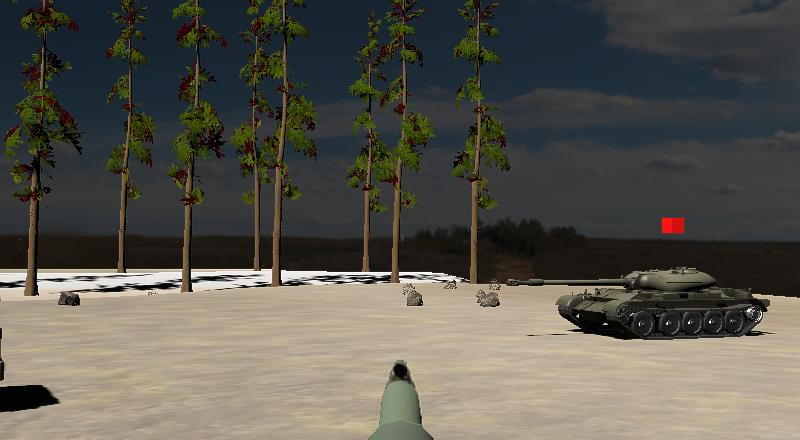Tank: (502, 261, 773, 340)
